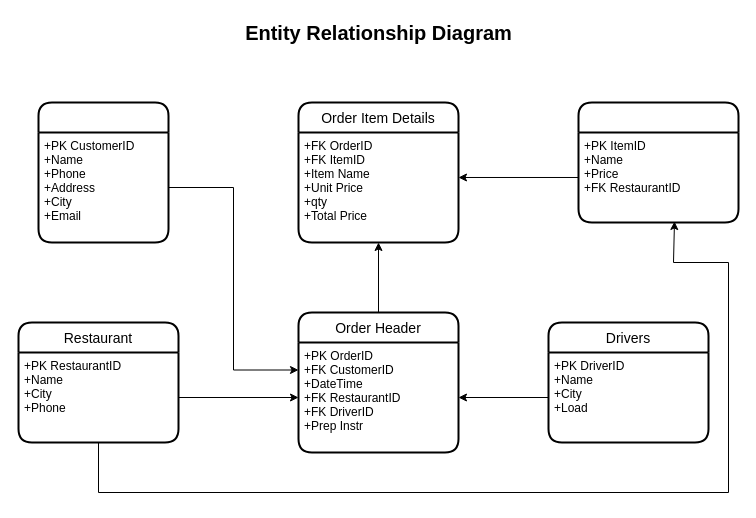
This 756x518 diagram has some shape labels left out. Here are the shapes that lost their labels. From the top down, the box of each, then its label:
(37, 101, 169, 243): Customers
(577, 101, 739, 223): Items
